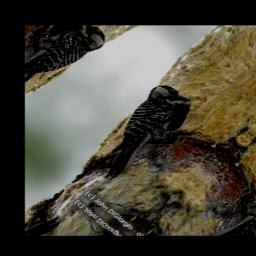Woodpecker: (72, 78, 210, 192)
